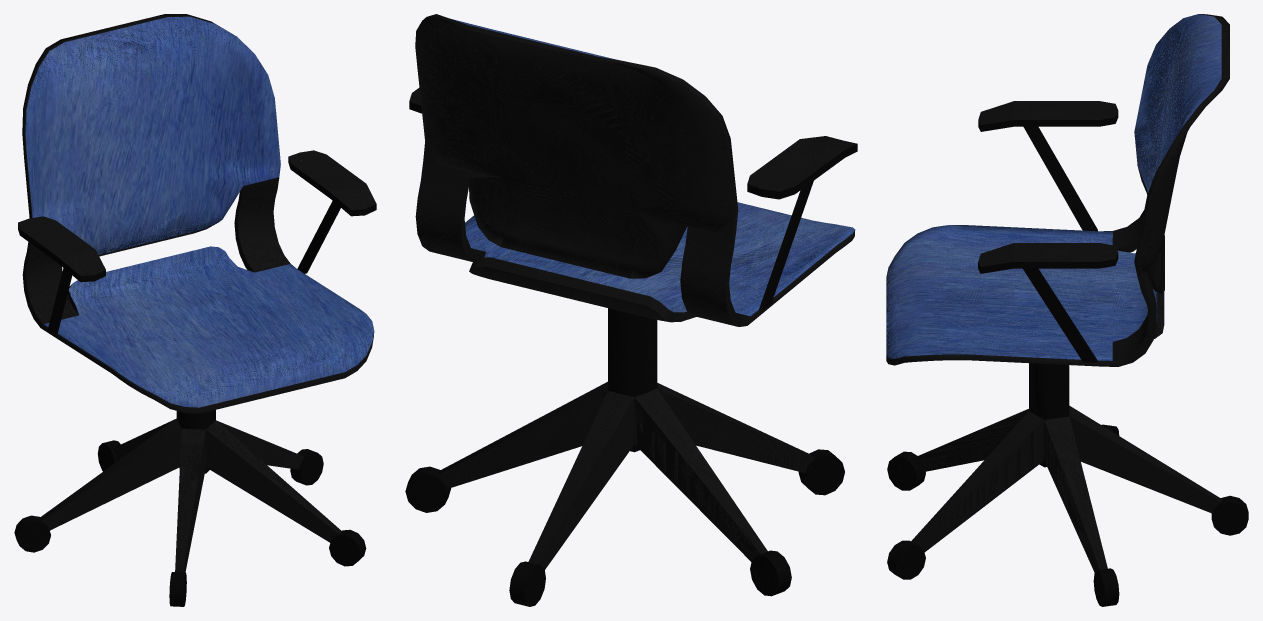
The model's file is officeChair.obj.
The picture shows the model from 3 angles, left to right: view 1: azimuth 30°, elevation 25°; view 2: azimuth 150°, elevation 25°; view 3: azimuth 270°, elevation 25°; orthographic projection. The views are drawn at different scales.
Parts seen in each view (by area): view 1: OfficeChair_1, OfficeChair_2, OfficeChair_3; view 2: OfficeChair_2, OfficeChair_3, OfficeChair_1; view 3: OfficeChair_1, OfficeChair_2, OfficeChair_3.
Part boxes in pixels (left/top/right/bottom): OfficeChair_1: left=25, top=16, right=374, bottom=407; OfficeChair_2: left=18, top=14, right=376, bottom=572; OfficeChair_3: left=14, top=157, right=376, bottom=606; OfficeChair_2: left=409, top=14, right=856, bottom=569; OfficeChair_3: left=405, top=101, right=857, bottom=606; OfficeChair_1: left=450, top=18, right=854, bottom=316; OfficeChair_1: left=886, top=14, right=1221, bottom=360; OfficeChair_2: left=886, top=14, right=1229, bottom=572; OfficeChair_3: left=887, top=111, right=1248, bottom=606.
Bounding box in the file's own units: 62.62 × 87.34 × 59.67.
3 materials, 1 textured.
